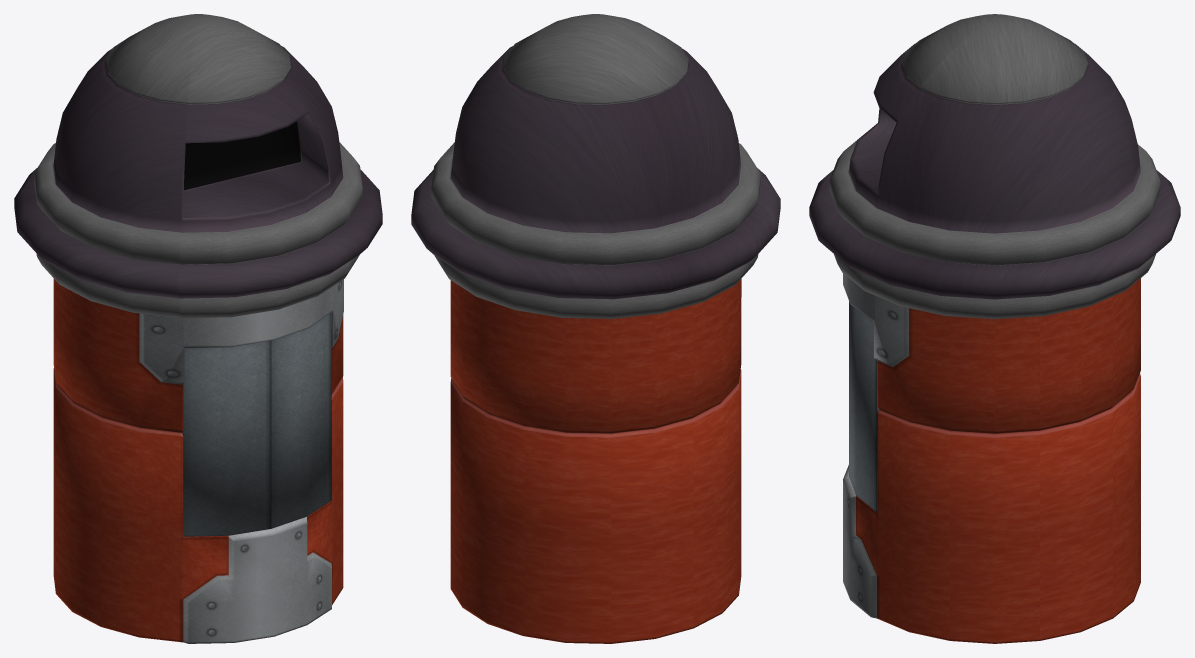
Rendered from slim_cognito.glb.
3 views of the same model, side by side, from view 1: azimuth 30°, elevation 25°; view 2: azimuth 150°, elevation 25°; view 3: azimuth 270°, elevation 25° (orthographic).
Parts seen in each view (by area): view 1: Cylinder.003; view 2: Cylinder.003; view 3: Cylinder.003.
Part boxes in pixels (left/top/right/bottom): Cylinder.003: left=14, top=14, right=382, bottom=643; Cylinder.003: left=411, top=14, right=780, bottom=643; Cylinder.003: left=809, top=14, right=1180, bottom=643.
Bounding box in the file's own units: 2.54 × 4.23 × 2.54.
2 materials, 2 textured.
